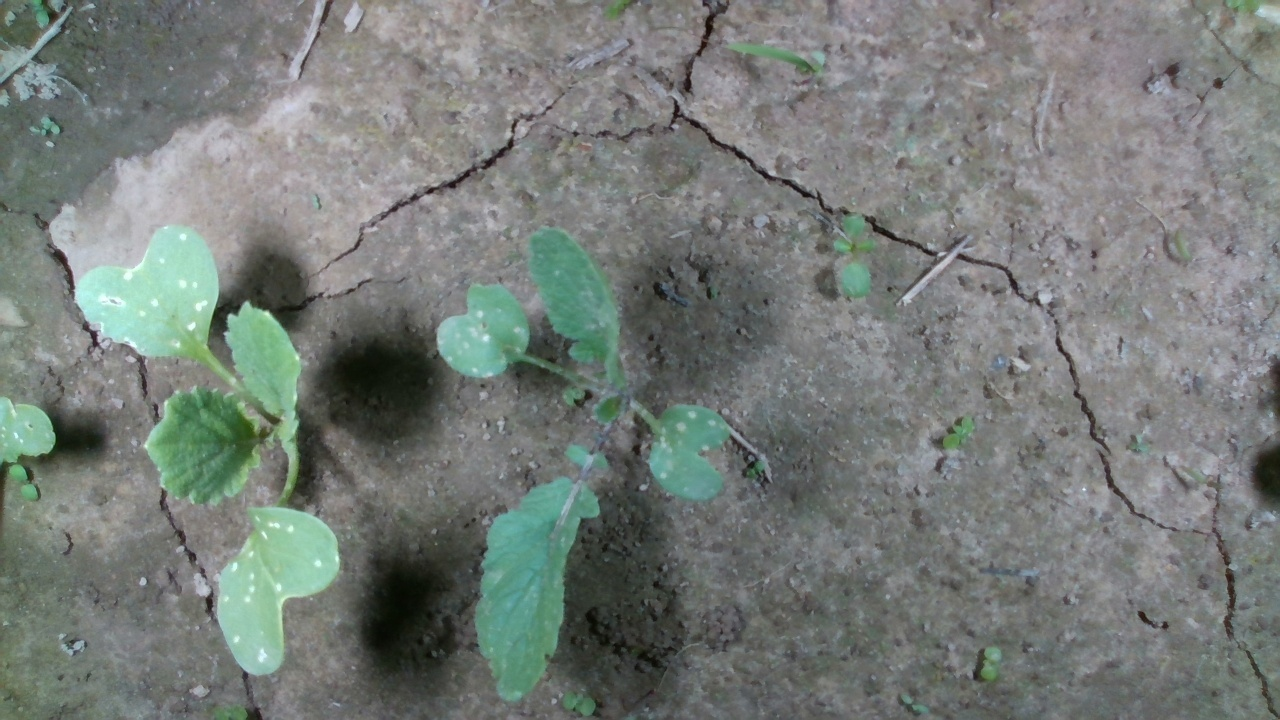weed: (940, 412, 976, 451), (8, 462, 40, 502), (559, 689, 597, 718), (979, 644, 1003, 682), (897, 692, 932, 717)
